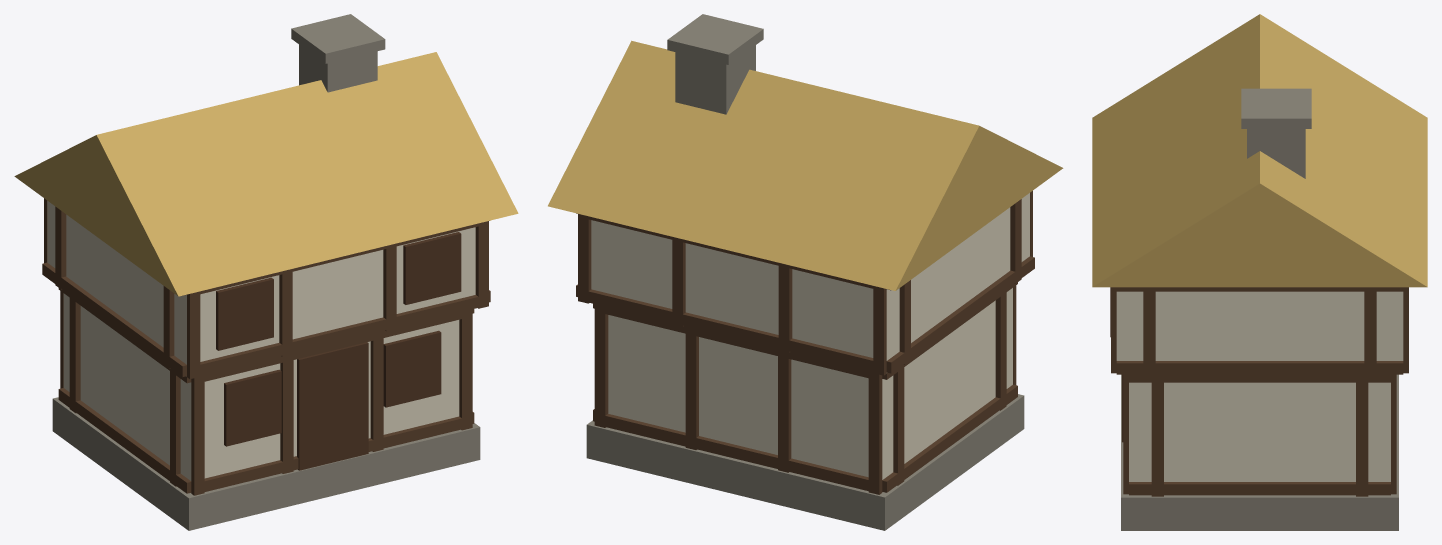
The model's file is house_a.obj.
3 renders of one model, left to right at view 1: azimuth 30°, elevation 25°; view 2: azimuth 150°, elevation 25°; view 3: azimuth 270°, elevation 25°, orthographic. The views are drawn at different scales.
Size of the model in its own units: 4.9 by 5.32 by 4.1.
